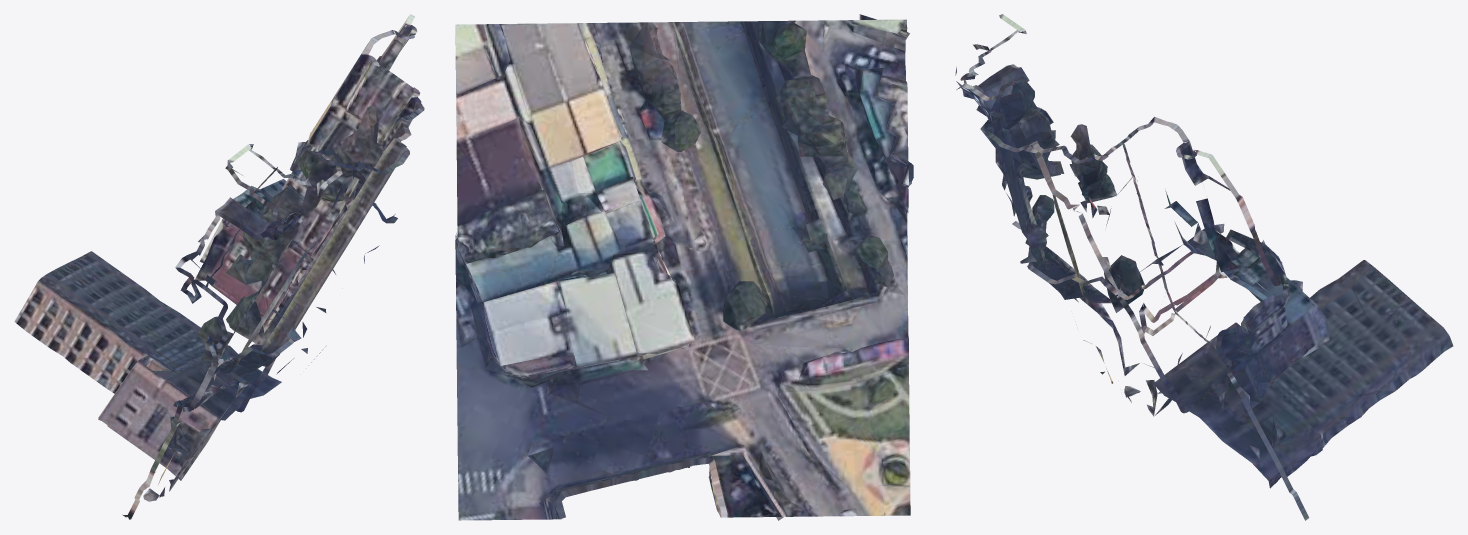
3 views of the same model, side by side, from view 1: azimuth 30°, elevation 25°; view 2: azimuth 150°, elevation 25°; view 3: azimuth 270°, elevation 25° (orthographic). The views are drawn at different scales.
Size of the model in its own units: 71.4 by 76.03 by 88.56.
2 materials, 2 textured.
